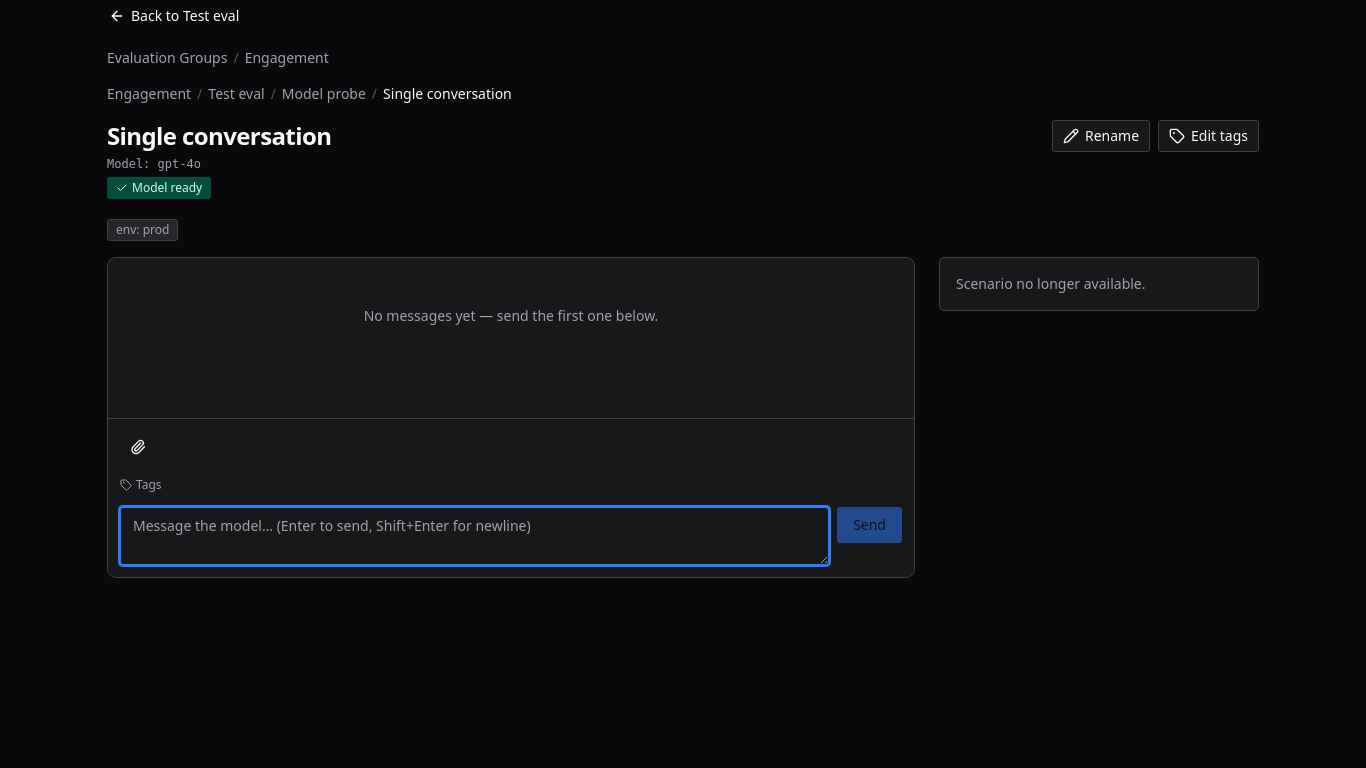
Test case: ConversationDetailPage — tags › does not offer a save until something actually changed
Check: the heading "Single conversation" is shown, box left=107, top=120, right=331, bottom=152
Click the button "Edit tags" at (1209, 136), box left=1158, top=120, right=1259, bottom=152
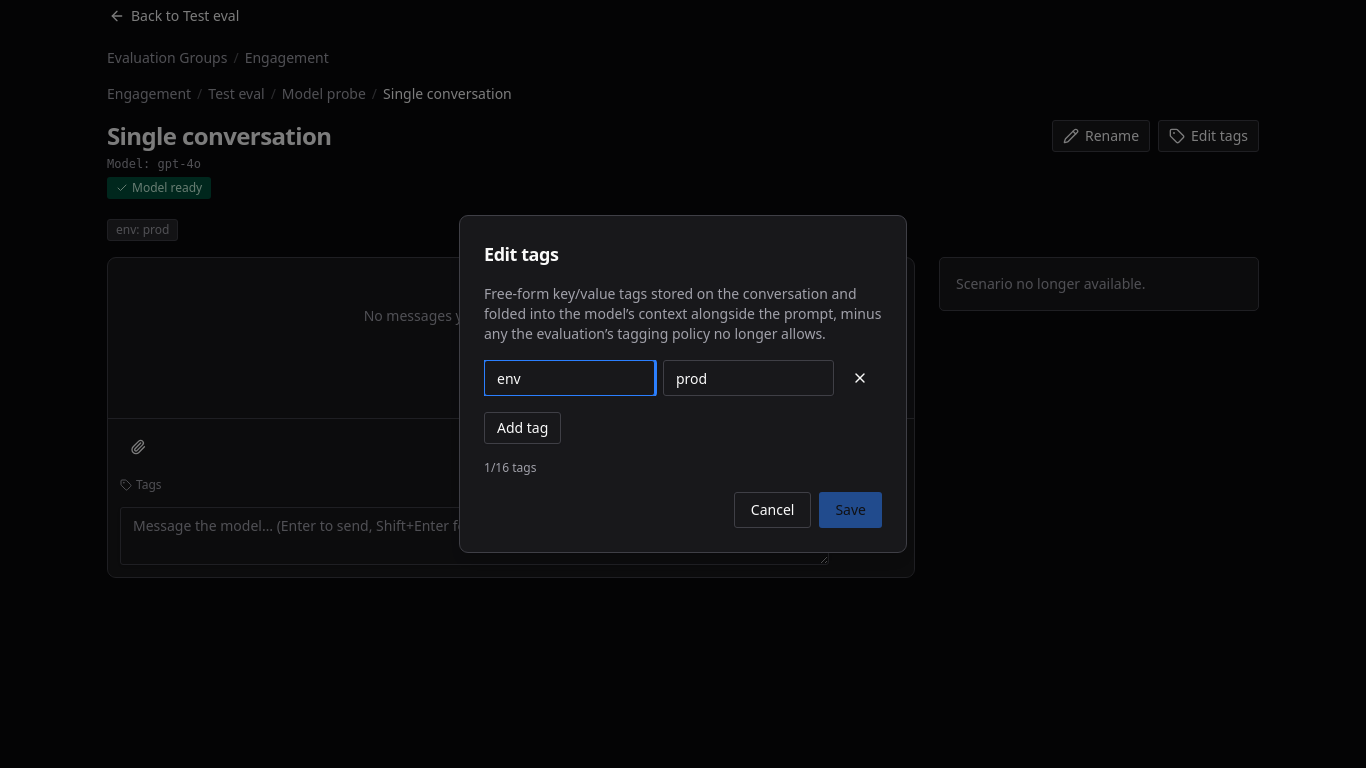
Check: the button "Save" is disabled, box left=819, top=492, right=882, bottom=528
Type "-eu" into the field named "Tag 1 value" at (748, 378), box left=663, top=360, right=834, bottom=396
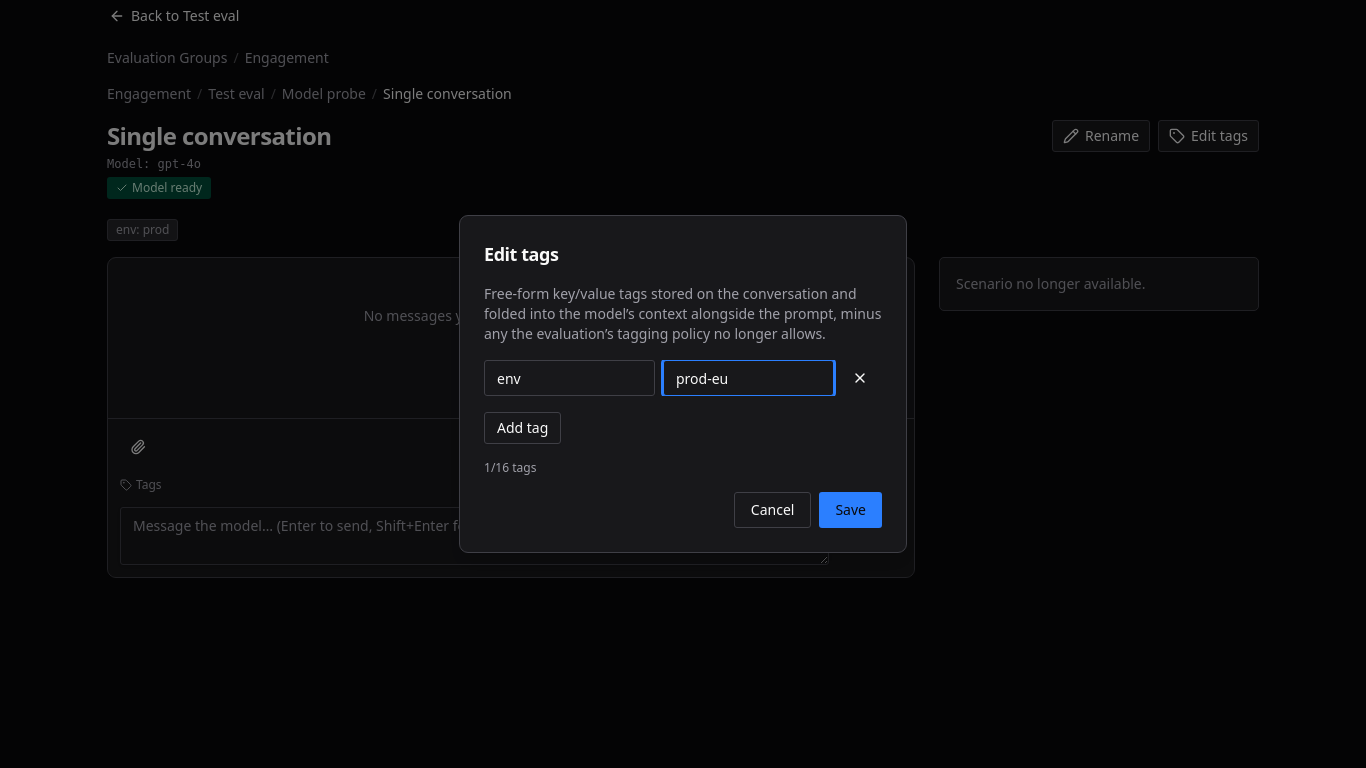
Check: the button "Save" is enabled, box left=819, top=492, right=882, bottom=528
